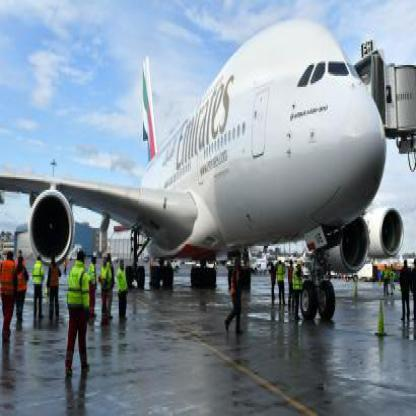CIV_Plane: (1, 13, 405, 346)
